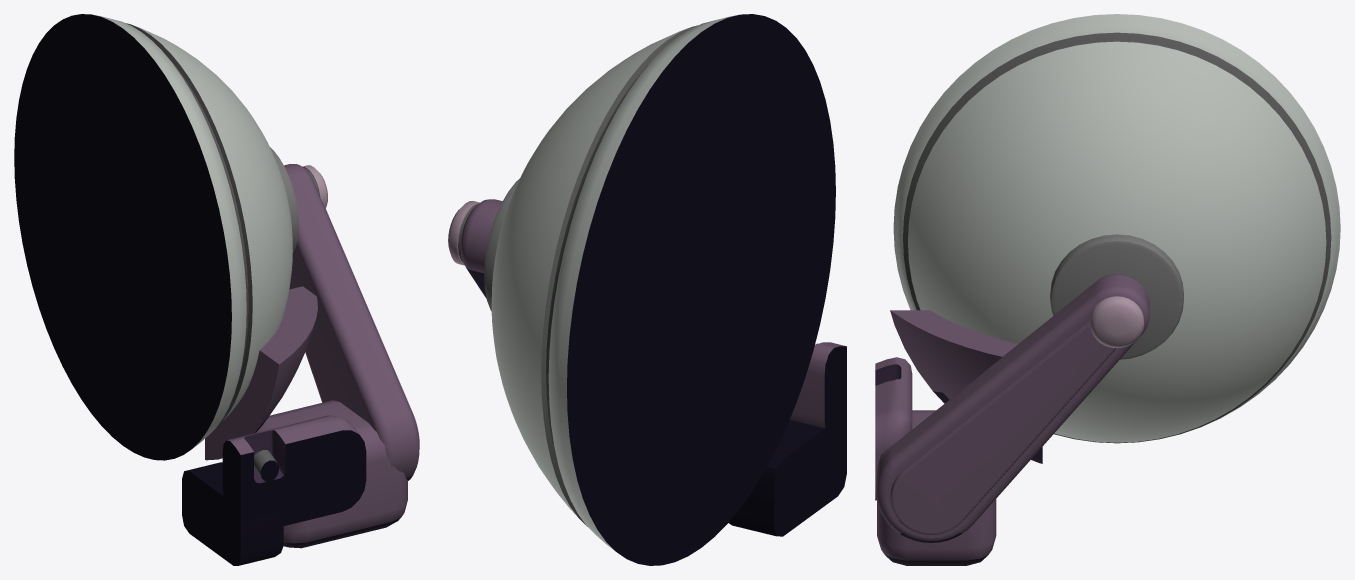
The model's file is ice_globe_tr.glb.
3 views of the same model, side by side, from view 1: azimuth 30°, elevation 25°; view 2: azimuth 150°, elevation 25°; view 3: azimuth 270°, elevation 25° (orthographic). The views are drawn at different scales.
Visible parts, largest first — view 1: sphere.001, arm_r.001, thigh_r.001, hip_r.001, cradle_r.001, pelvis.001, hub_r.001, thigh_rod_r.001; view 2: sphere.001, pelvis.001, thigh_r.001, arm_r.001, hub_r.001, arm_cap_r.001; view 3: sphere.001, arm_panel_r.001, arm_r.001, hub_r.001, cradle_r.001, hip_r.001, thigh_r.001, arm_cap_r.001.
Part boxes in pixels (x1,y1,x2,y2): sphere.001: (14,14,292,460); arm_r.001: (284,164,419,480); thigh_r.001: (222,415,366,536); hip_r.001: (256,400,407,548); cradle_r.001: (205,286,317,460); pelvis.001: (182,462,283,565); hub_r.001: (270,147,298,254); thigh_rod_r.001: (254,450,279,481); sphere.001: (491,14,835,565); pelvis.001: (728,419,846,536); thigh_r.001: (790,342,846,447); arm_r.001: (460,199,502,298); hub_r.001: (484,178,519,311); arm_cap_r.001: (448,201,479,265); sphere.001: (893,14,1340,443); arm_panel_r.001: (890,319,1115,534); arm_r.001: (876,274,1149,542); hub_r.001: (1050,234,1183,359); cradle_r.001: (890,310,1042,463); hip_r.001: (877,410,996,565); thigh_r.001: (875,357,912,500); arm_cap_r.001: (1090,296,1143,348).
Size of the model in its own units: 12.5 by 28.01 by 25.02.
